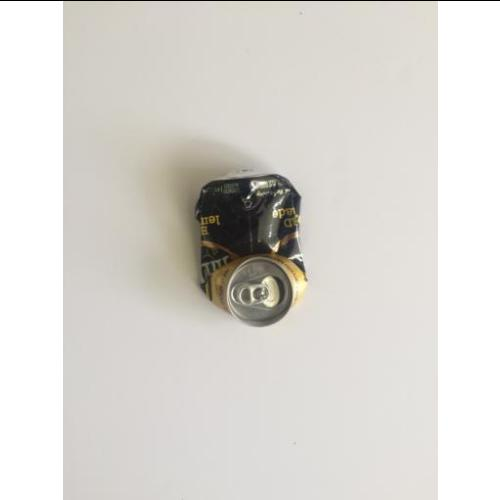metal: (198, 172, 306, 324)
